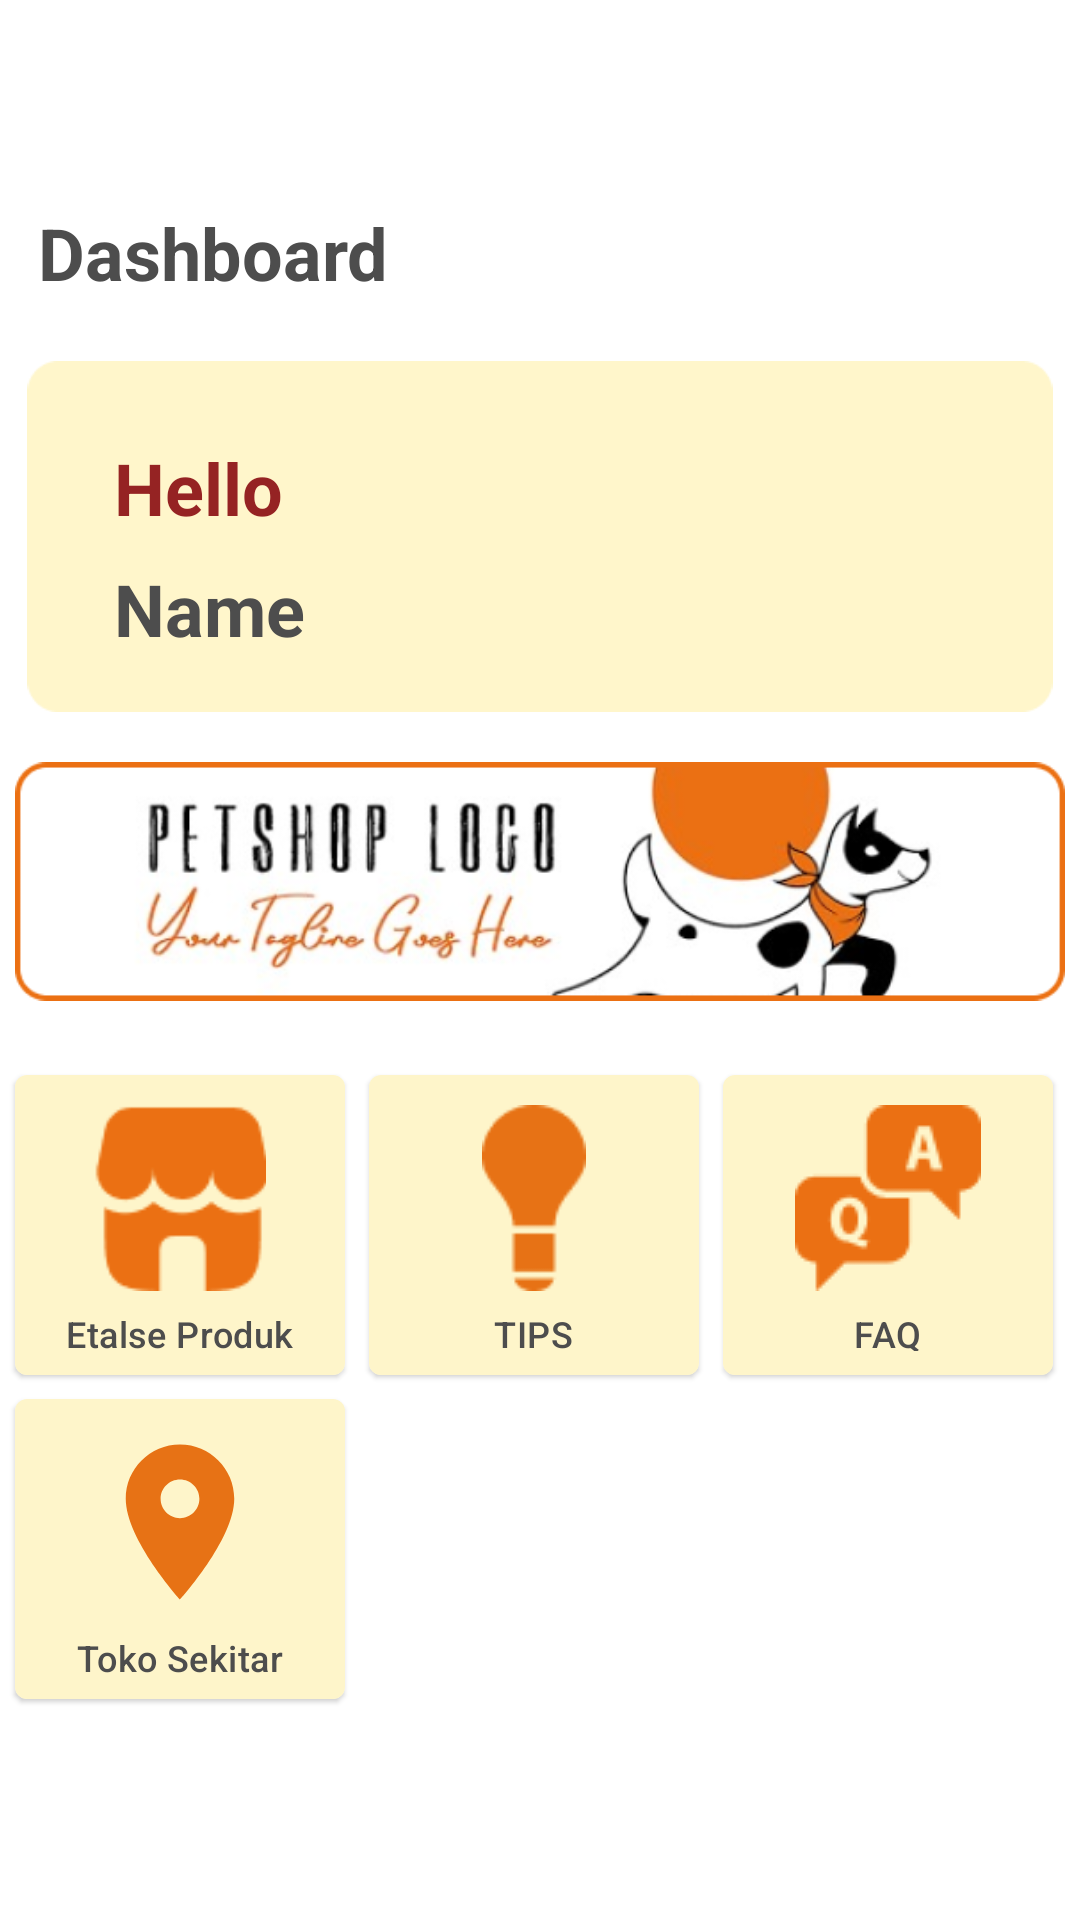

Icons on this 1080px x 1920px Android screen, each with its box as rect(x1, y1, x2, y2):
location on: rect(125, 1444, 235, 1600)
